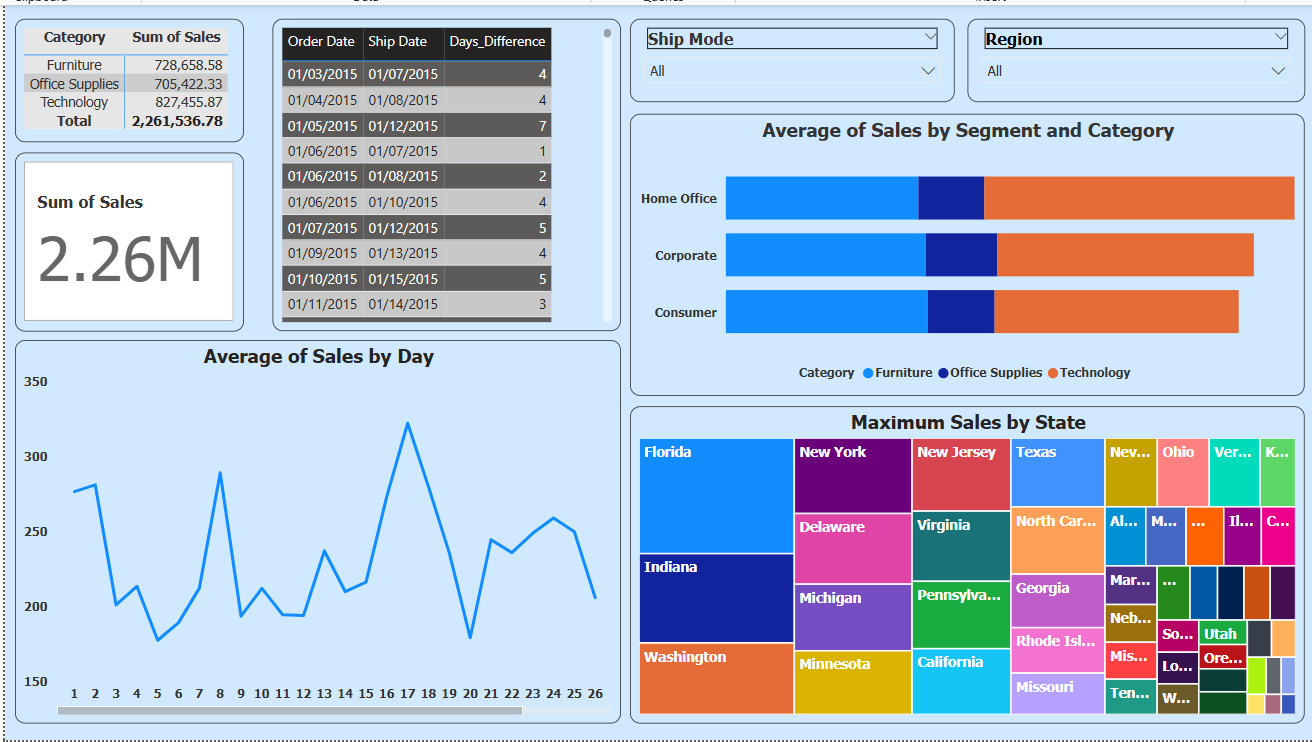

What the dashboard file says about the page in this screenshot:
{"tool":"powerbi","page":{"name":"Page 1","canvas":[1280,720],"ordinal":0},"visuals":[{"type":"pivotTable","fields":{"Rows":["Superstore Sales.Category"],"Values":["Sum(Superstore Sales.Sales)"]},"box":[9.8,13.5,223.8,121.1],"z":0},{"type":"barChart","fields":{"Y":["Avg(Superstore Sales.Sales)"],"Category":["Superstore Sales.Segment"],"Series":["Superstore Sales.Category"]},"box":[611.4,106.4,660.3,276.4],"z":1000},{"type":"treemap","title":"Maximum Sales by State","fields":{"Values":["Max(Superstore Sales.Sales)"],"Group":["Superstore Sales.State"]},"box":[611.4,392.5,660.3,310.6],"z":2000},{"type":"tableEx","fields":{"Values":["Superstore Sales.Order Date","Superstore Sales.Ship Date","Superstore Sales.Days_Difference"]},"box":[261.7,13.5,341.2,305.7],"z":3000},{"type":"lineChart","fields":{"Y":["Avg(Superstore Sales.Sales)"],"Category":["DateTable.Order_Date_Only.Variation.Date Hierarchy.Month","DateTable.Order_Date_Only.Variation.Date Hierarchy.Day"]},"box":[9.8,327.7,593.1,375.4],"z":4000},{"type":"cardVisual","fields":{"Data":["Sum(Superstore Sales.Sales)"]},"box":[9.8,144.3,223.8,174.9],"z":5000},{"type":"slicer","fields":{"Values":["Superstore Sales.Ship Mode"]},"box":[611.4,13.5,317.9,81.9],"z":6000},{"type":"slicer","fields":{"Values":["Superstore Sales.Region"]},"box":[941.6,13.5,330.2,81.9],"z":7000}]}

Visuals, with their boxes in screenshot pixels (x1, y1, x2, y2), scaled from the page's 1280x720 canvas onto the 1312x742 screenshot:
pivotTable - Superstore Sales.Category x Sum(Superstore Sales.Sales): bbox(10, 14, 239, 139)
barChart - Avg(Superstore Sales.Sales) x Superstore Sales.Segment: bbox(627, 110, 1303, 394)
"Maximum Sales by State" treemap: bbox(627, 404, 1303, 725)
tableEx - Superstore Sales.Order Date x Superstore Sales.Ship Date: bbox(268, 14, 618, 329)
lineChart - Avg(Superstore Sales.Sales) x DateTable.Order_Date_Only.Variation.Date Hierarchy.Month: bbox(10, 338, 618, 725)
cardVisual - Sum(Superstore Sales.Sales): bbox(10, 149, 239, 329)
slicer - Superstore Sales.Ship Mode: bbox(627, 14, 953, 98)
slicer - Superstore Sales.Region: bbox(965, 14, 1304, 98)
